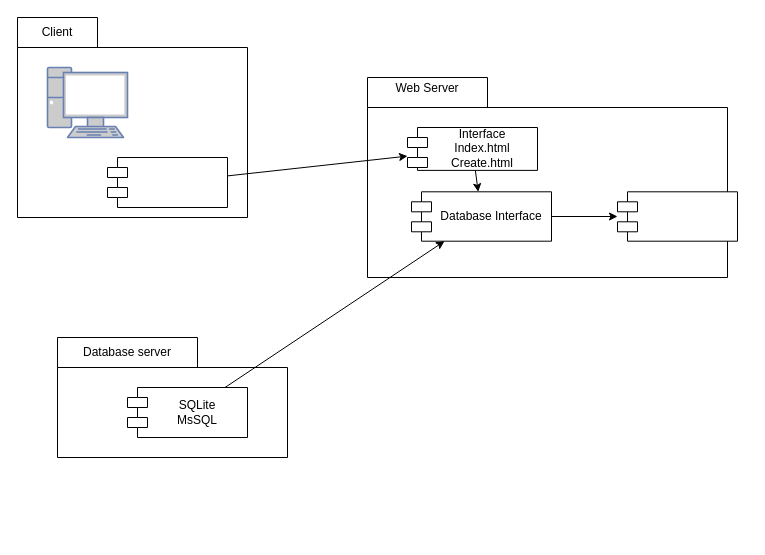
Image size: 765x555. Some labels were removed from this diagram. Each missing label, with the centre of its shape:
"Reserva" goes at (677,216).
"Web Browser" goes at (167,182).
